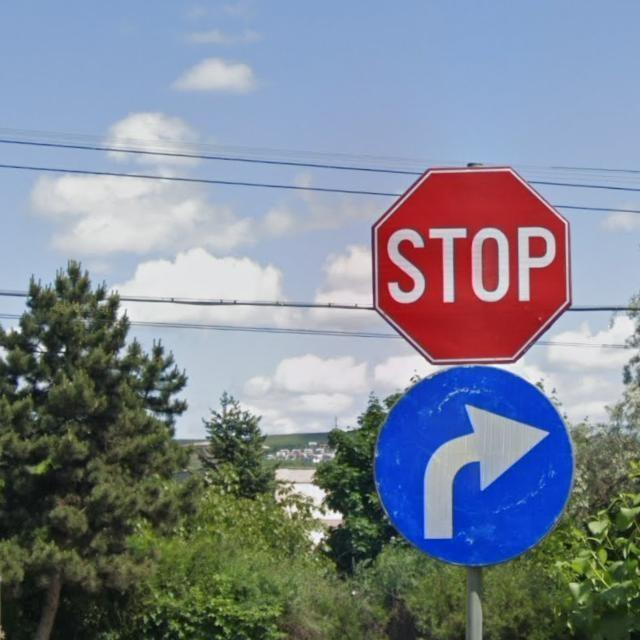prio_stop: (373, 169, 570, 367)
